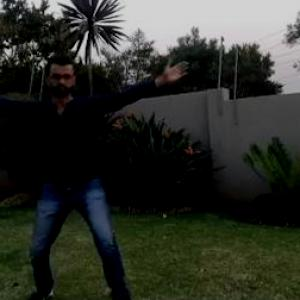takeoff: (1, 45, 172, 299)
